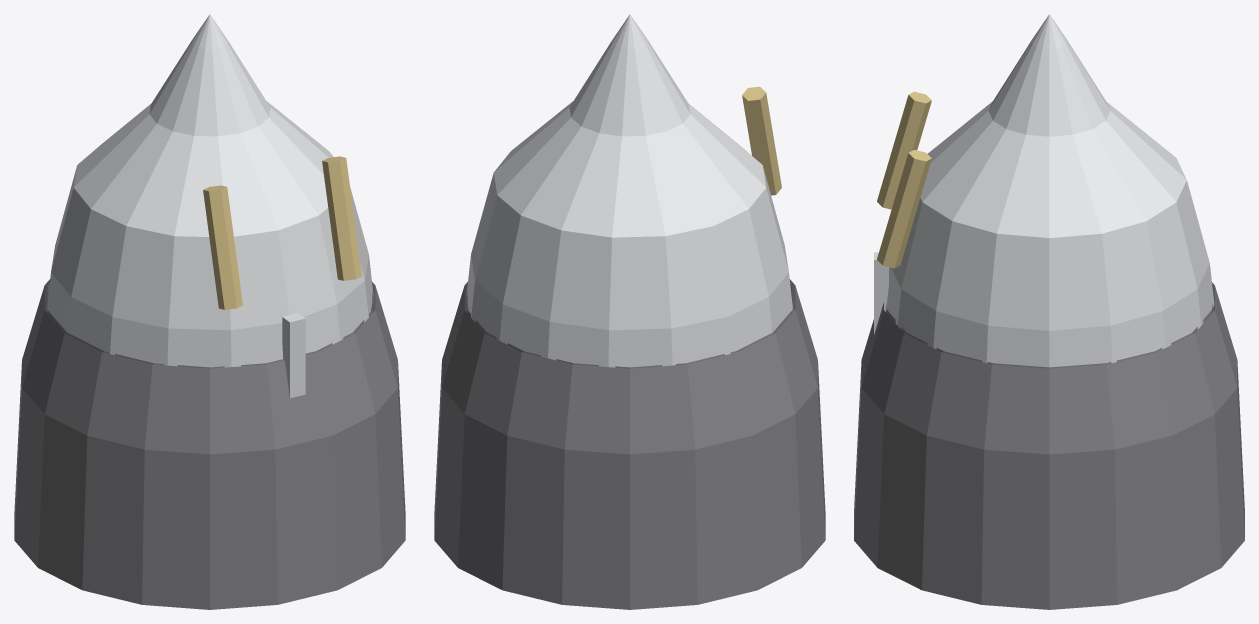
File: persian_kulah_khud.glb
3 renders of one model, left to right at view 1: azimuth 30°, elevation 25°; view 2: azimuth 150°, elevation 25°; view 3: azimuth 270°, elevation 25°, orthographic.
Visible parts, largest first — view 1: Persian_Kulah_Khud; view 2: Persian_Kulah_Khud; view 3: Persian_Kulah_Khud.
Boxes of the visible parts, <box> form: Persian_Kulah_Khud: <box>14,14,405,609</box>; Persian_Kulah_Khud: <box>434,14,825,609</box>; Persian_Kulah_Khud: <box>854,14,1244,609</box>.
Size of the model in its own units: 0.26 by 0.37 by 0.256.
